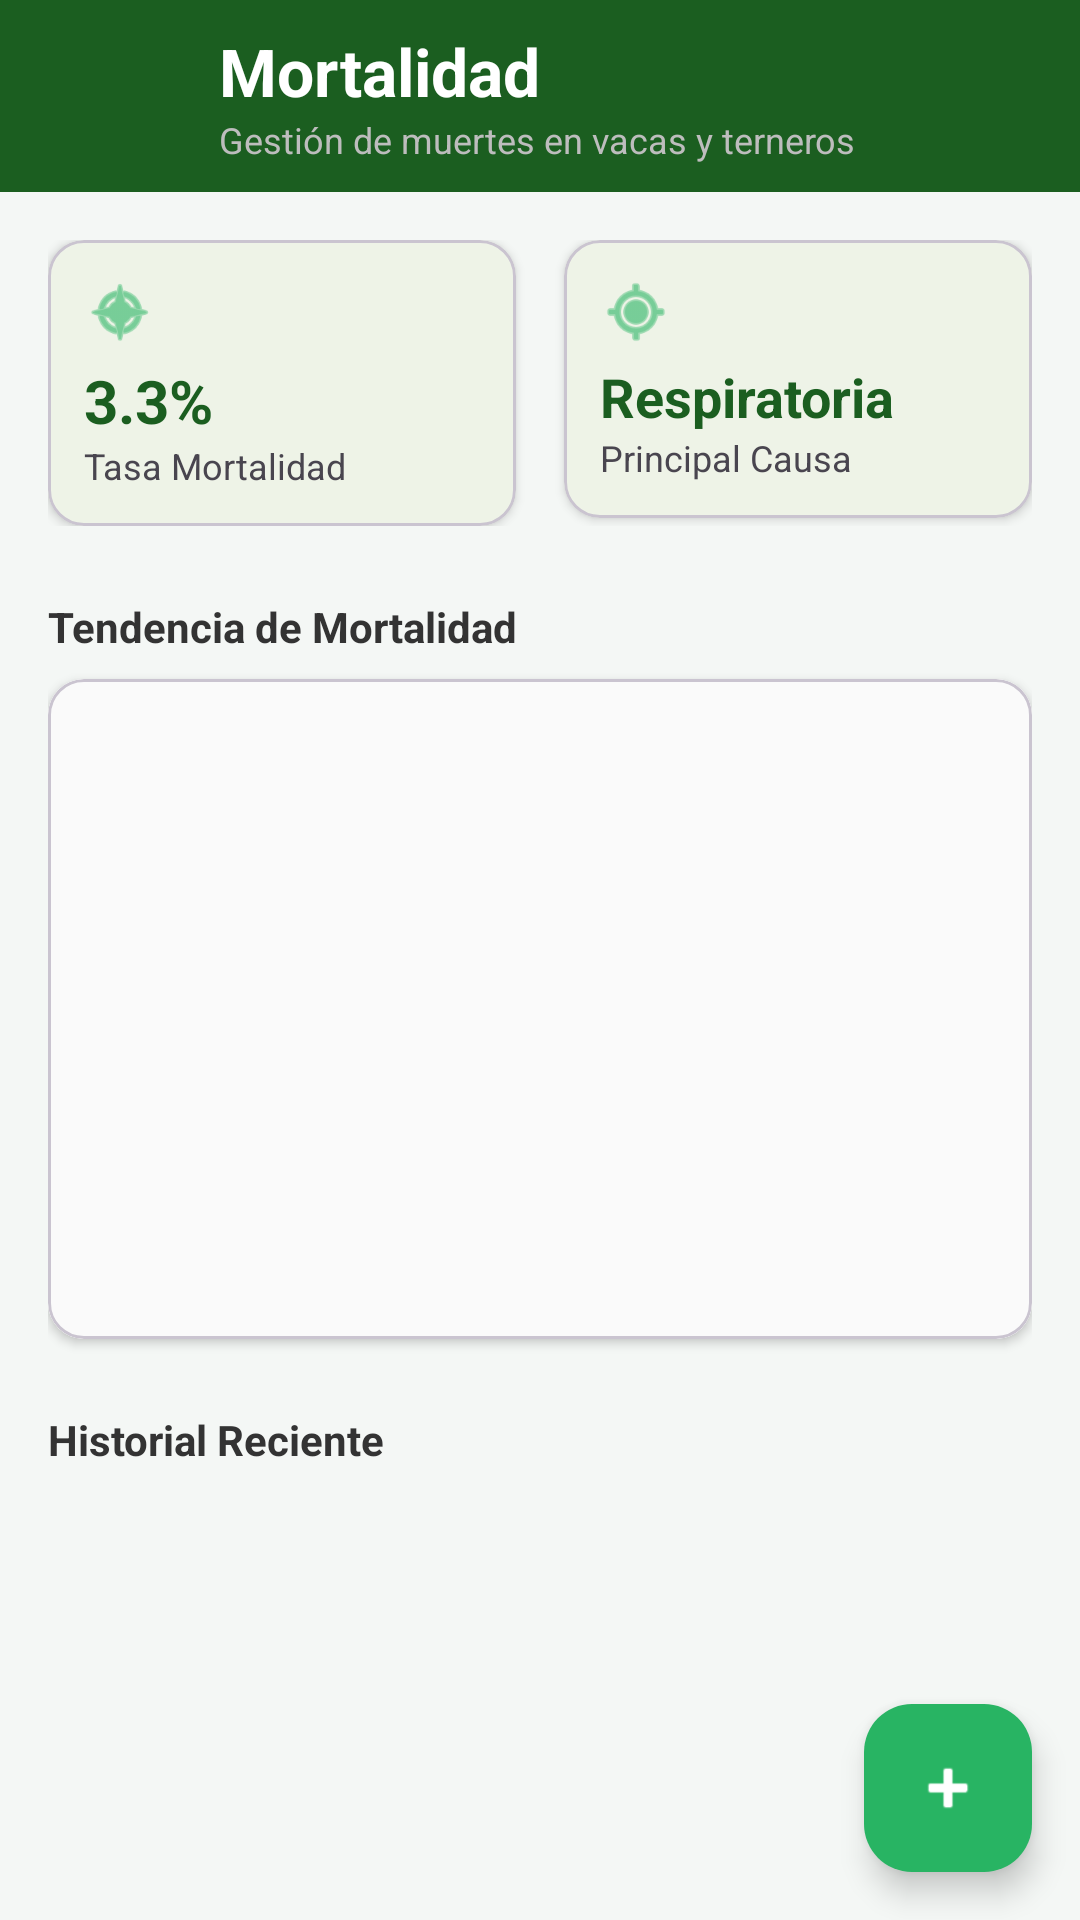

Where icons sit on this 1080x1920 app screen, as BBox(x1, y1, x2, y2):
Registrar Muerte: BBox(864, 1704, 1032, 1872)
